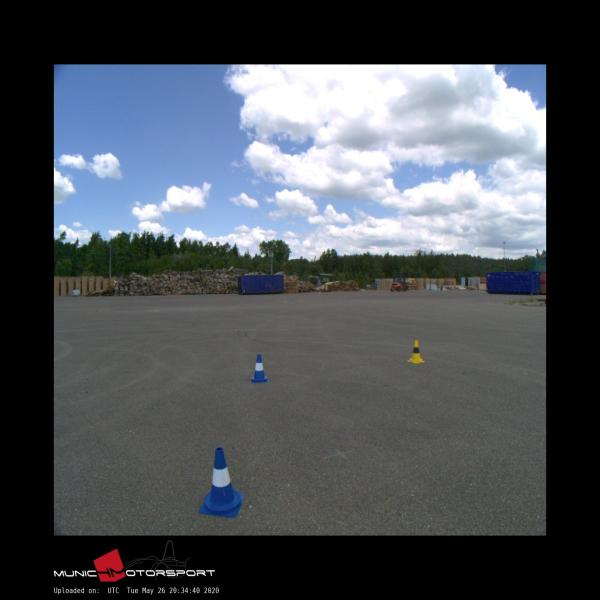blue_cone: (200, 448, 244, 517), (251, 354, 268, 382)
yellow_cone: (407, 340, 425, 361)
